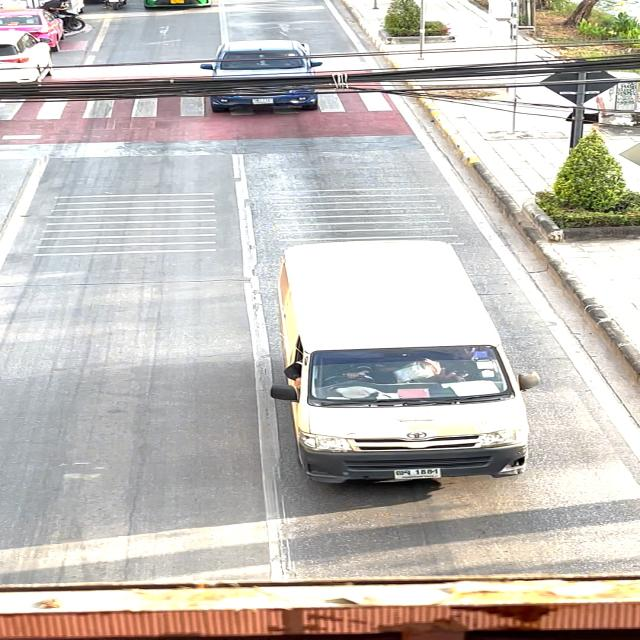car: (252, 230, 554, 494), (199, 35, 333, 120)
